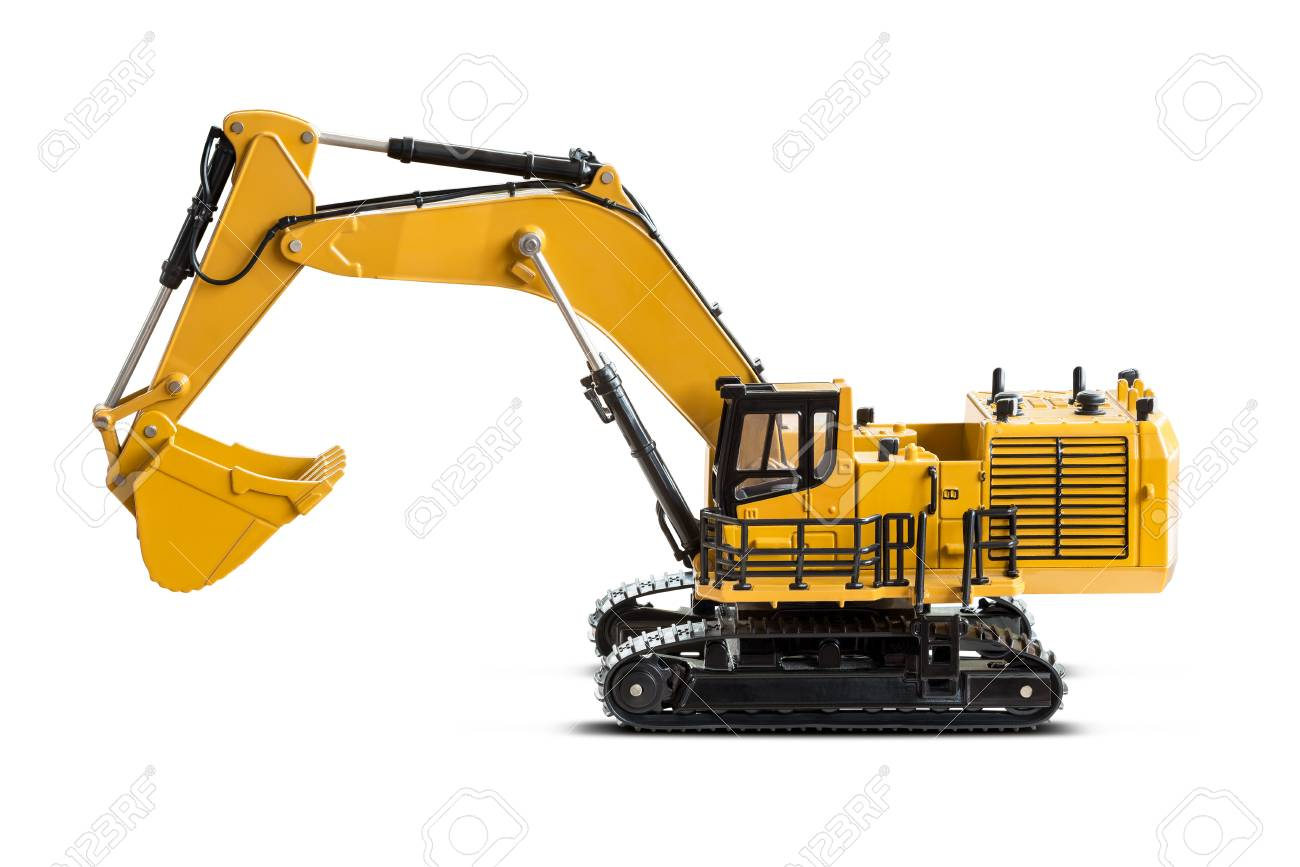backhoe: (88, 108, 1179, 745)
